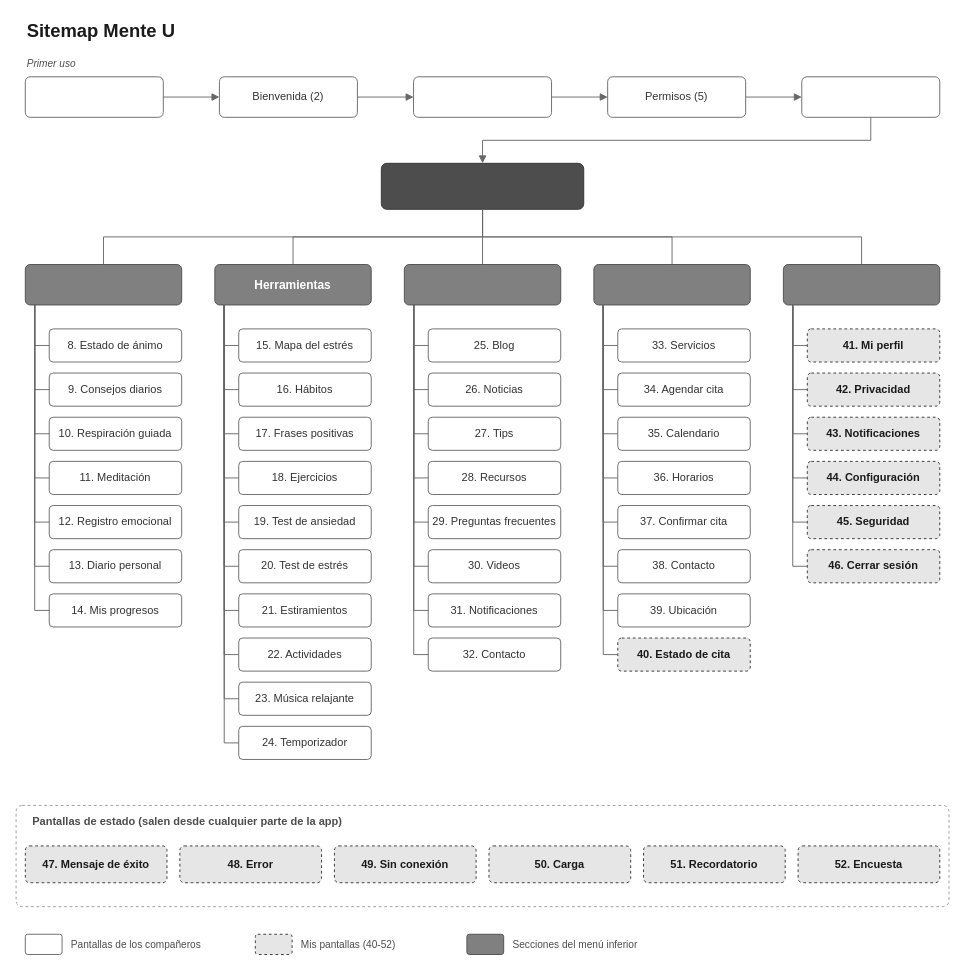
Some shapes in this 965 by 971 pixel diagram are drawn without their labels. The shapes that lost their labels are listed below. From the top down, each one's centre as x and y in pixels, then its label:
At point (93, 96): "Splash (1)".
At point (482, 96): "Registro / Inicio de sesión (3-4)".
At point (870, 96): "Configuración inicial (6)".
At point (482, 185): "Pantalla principal (7)".
At point (103, 284): "Inicio".
At point (482, 284): "Recursos".
At point (671, 284): "Servicios".
At point (861, 284): "Perfil".
